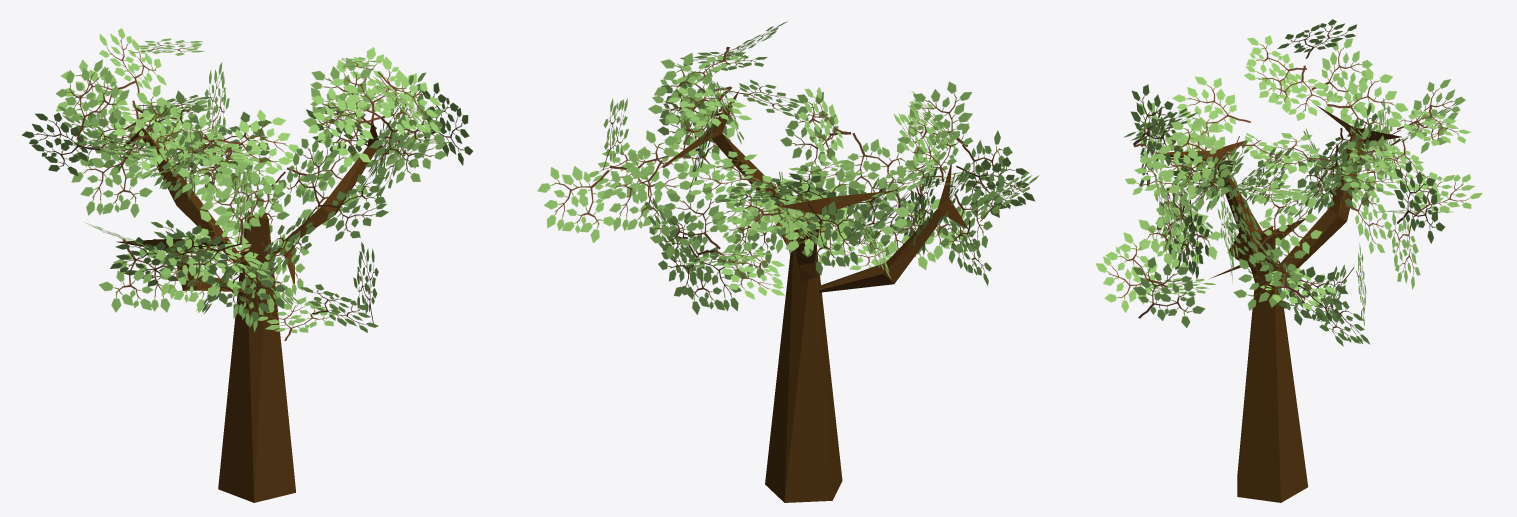
The model's file is treeB_lod2.glb.
3 renders of one model, left to right at view 1: azimuth 30°, elevation 25°; view 2: azimuth 150°, elevation 25°; view 3: azimuth 270°, elevation 25°, orthographic. The views are drawn at different scales.
Visible parts, largest first — view 1: Tree_green01_Cube.007; view 2: Tree_green01_Cube.007; view 3: Tree_green01_Cube.007.
Part boxes in pixels (box(x1,y1,x2,y2)): Tree_green01_Cube.007: box(21, 28, 473, 502); Tree_green01_Cube.007: box(537, 21, 1038, 502); Tree_green01_Cube.007: box(1095, 19, 1482, 502).
Bounding box in the file's own units: 12.14 × 11.64 × 10.56.
2 materials, 1 textured.
